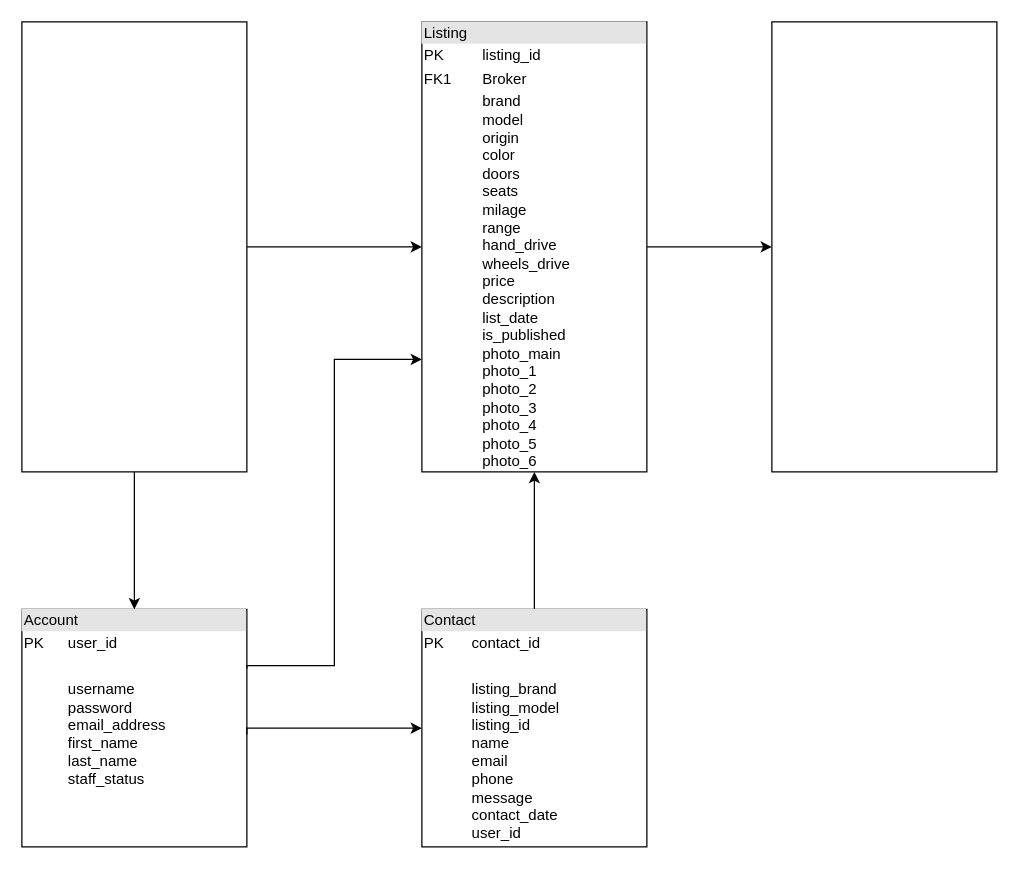
Some shapes in this 1019 by 869 pixel diagram are drawn without their labels. The box of each missing label's shape, as (x1, y1, x2, y2) in pixels:
Broker PK broker_id name photo description email phone is_mvp hire_date: (771, 21, 997, 472)
User (Anonymous): (21, 21, 247, 472)
